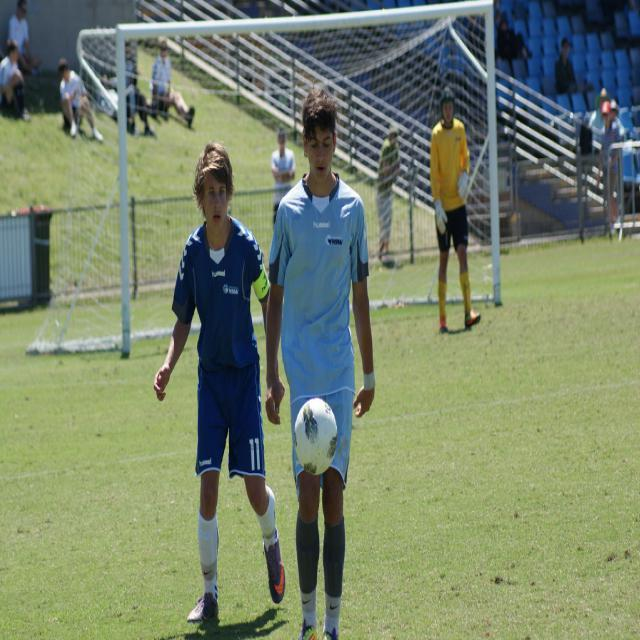football: (277, 386, 356, 477)
